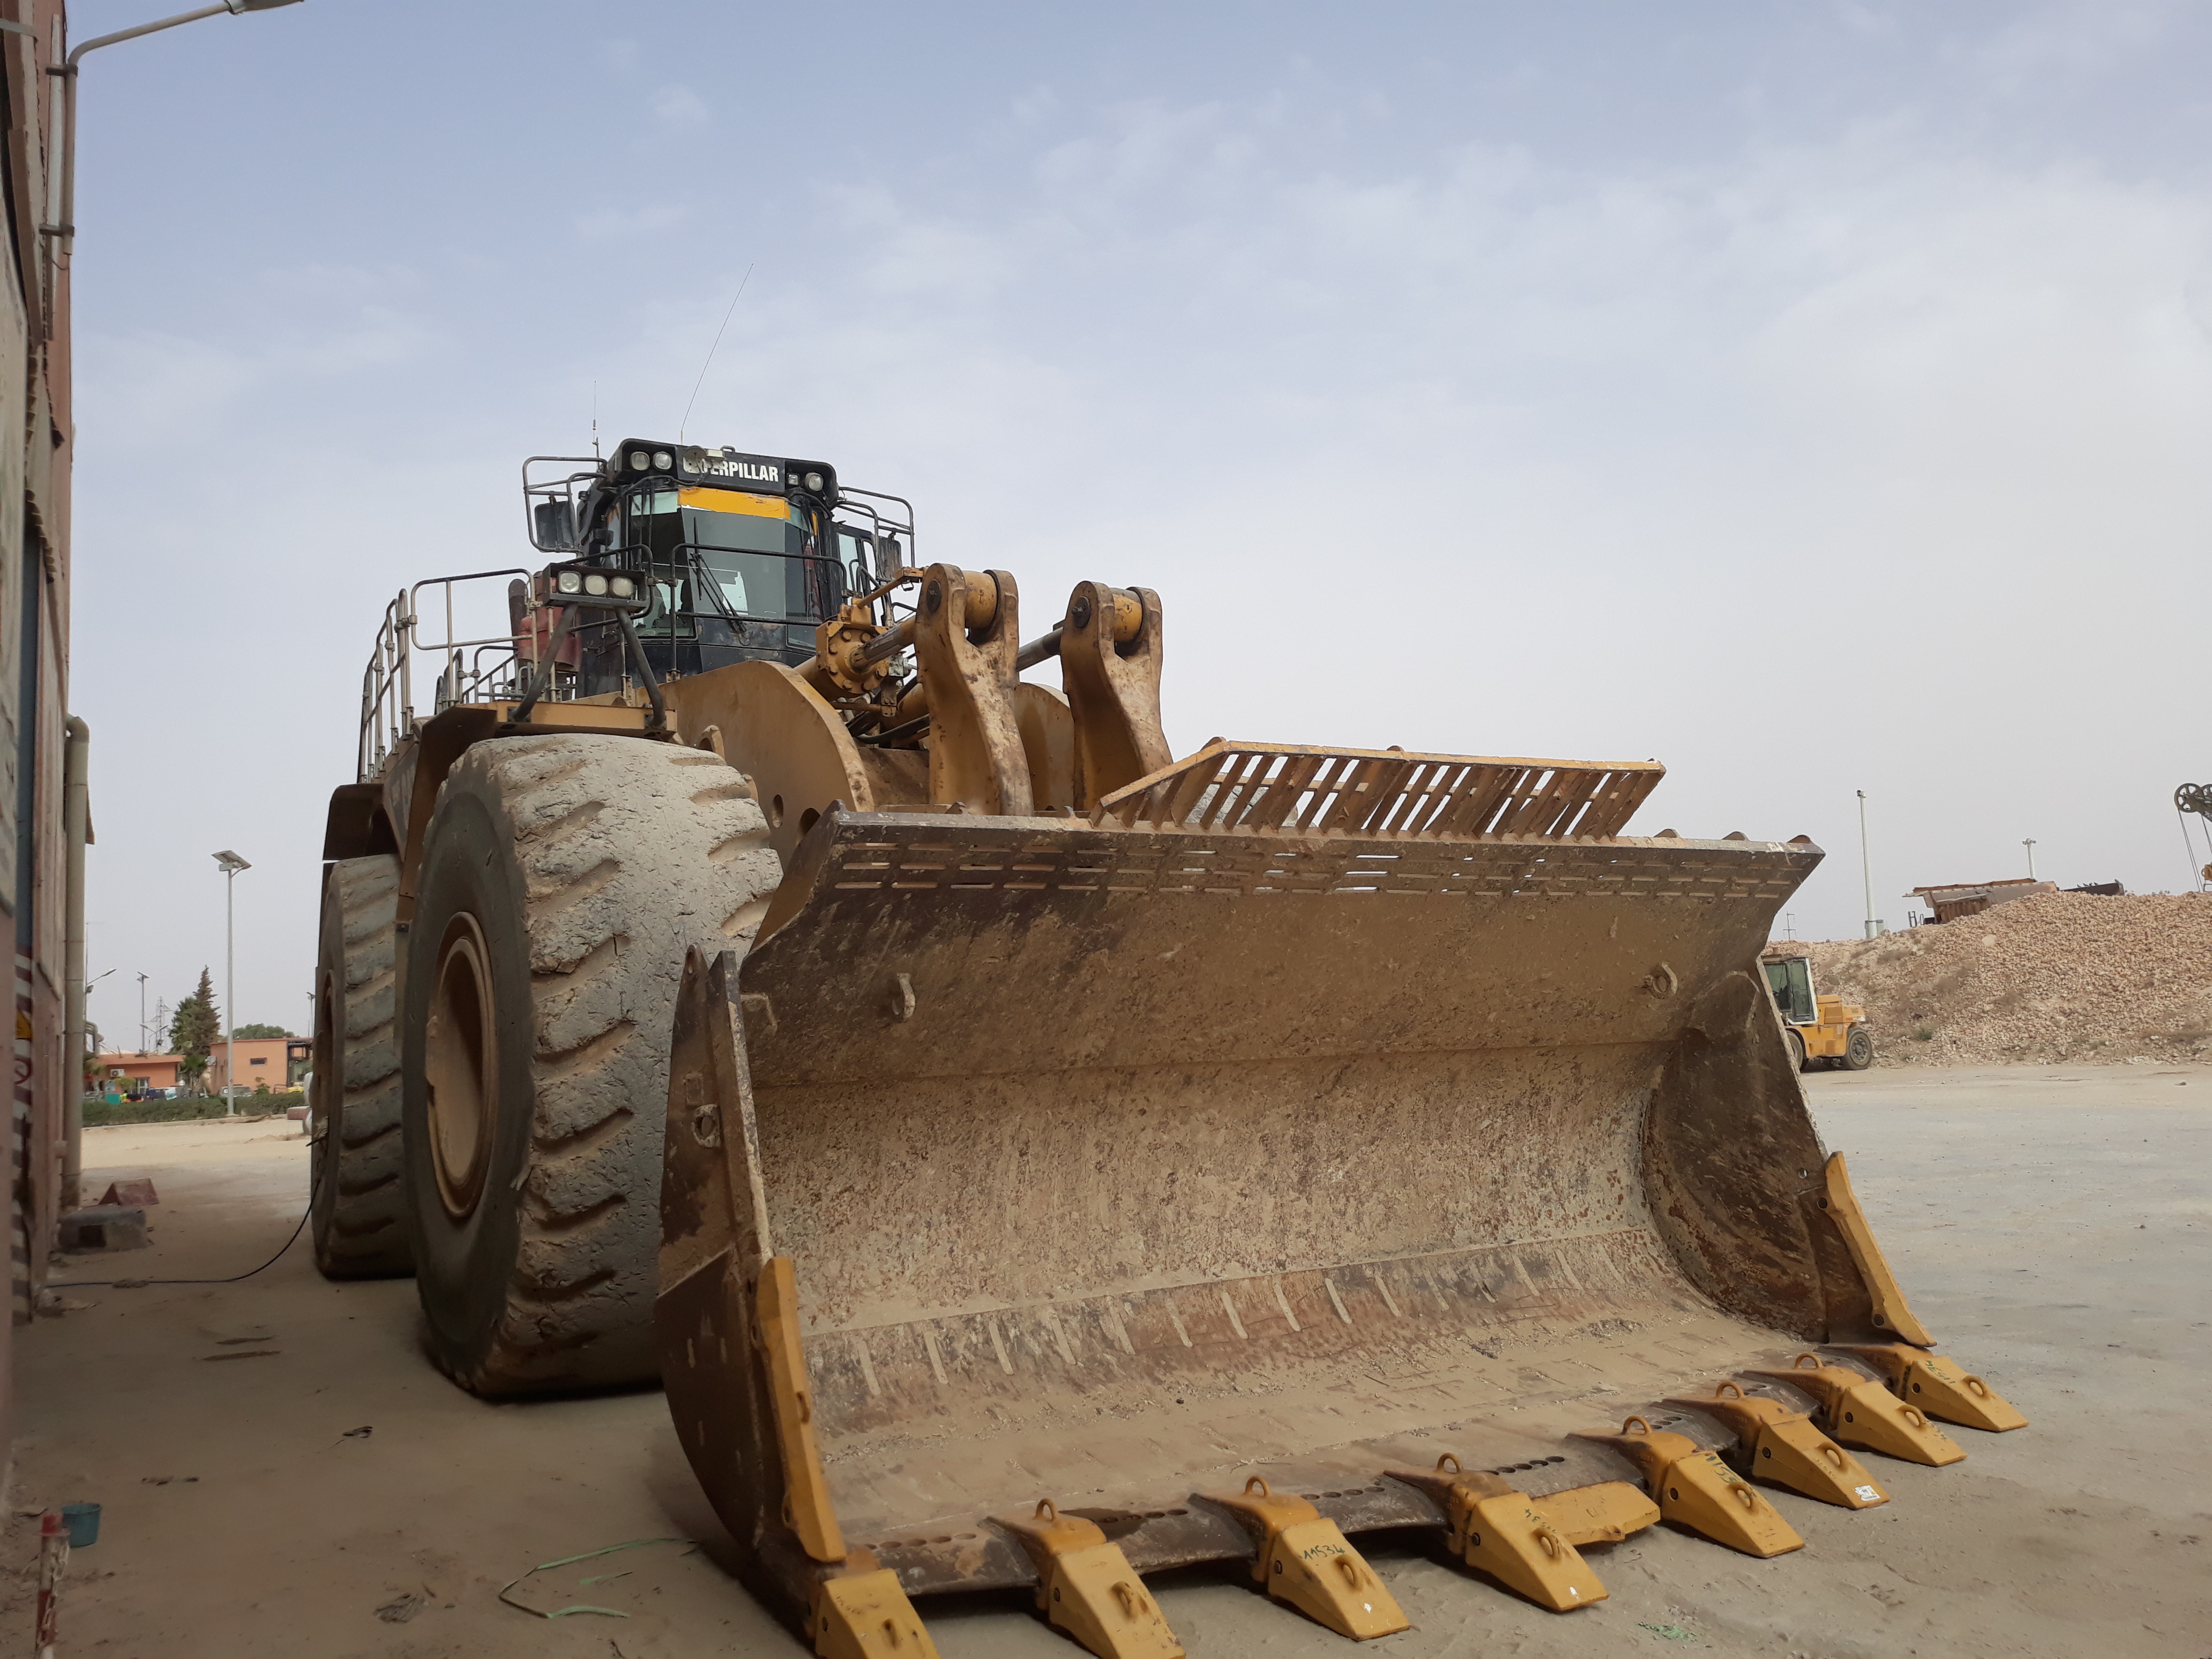chargeuse: (216, 399, 2071, 1635)
